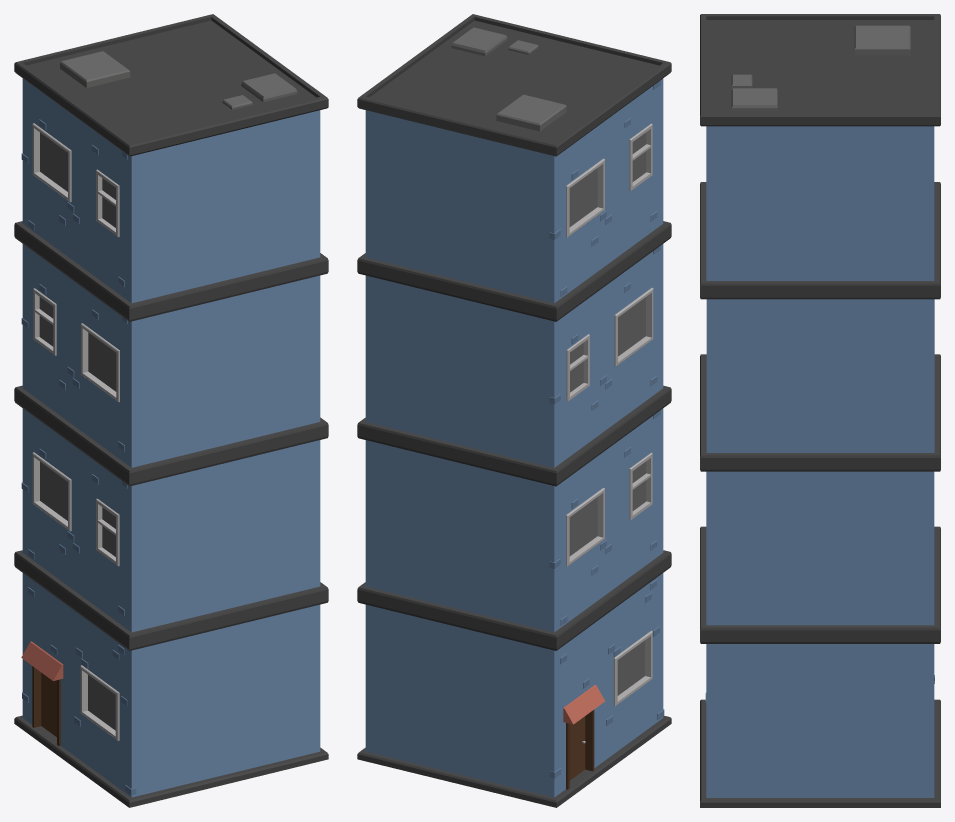
The model's file is House2.fbx.
The picture shows the model from 3 angles, left to right: view 1: azimuth 30°, elevation 25°; view 2: azimuth 150°, elevation 25°; view 3: azimuth 270°, elevation 25°; orthographic projection. The views are drawn at different scales.
Visible parts, largest first — view 1: House_2; view 2: House_2; view 3: House_2.
Boxes of the visible parts, x1,y1,x2,y2 form: House_2: [14, 14, 328, 807]; House_2: [357, 14, 671, 807]; House_2: [700, 14, 940, 807].
Bounding box in the file's own units: 6.5 × 20.23 × 6.34.
